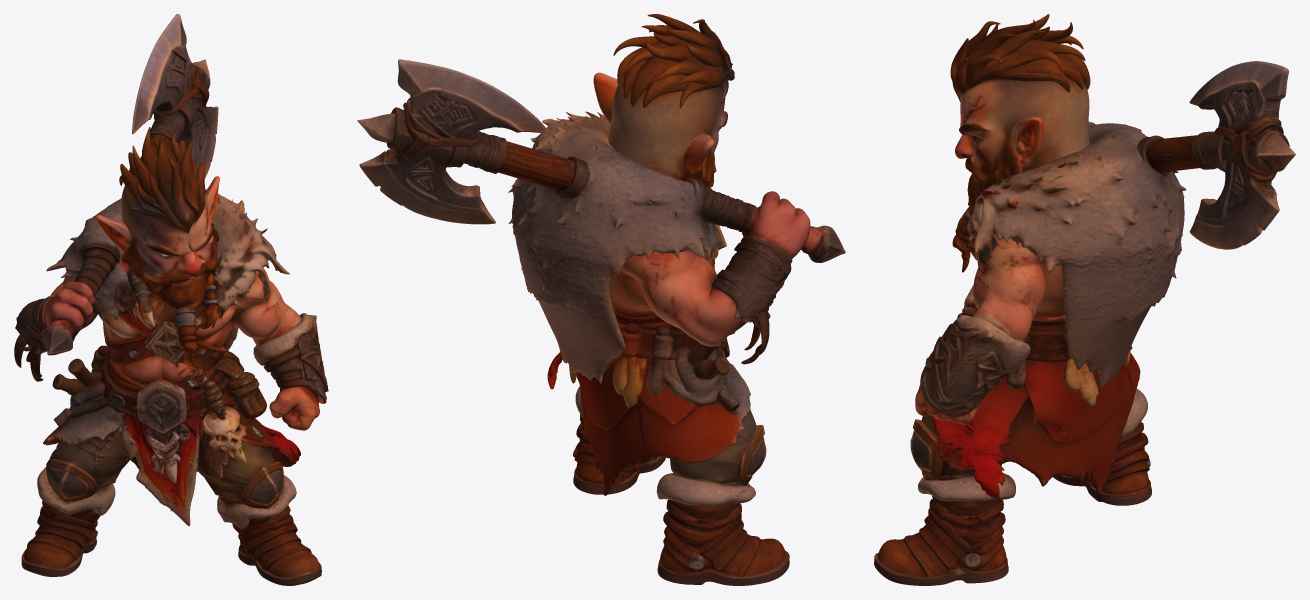
Rendered from gnome_barbarian_full_male_01.glb.
3 renders of one model, left to right at view 1: azimuth 30°, elevation 25°; view 2: azimuth 150°, elevation 25°; view 3: azimuth 270°, elevation 25°, orthographic. The views are drawn at different scales.
Visible parts, largest first — view 1: material; view 2: material; view 3: material.
Boxes of the visible parts, bbox=[...] form: material: bbox=[14, 14, 328, 585]; material: bbox=[357, 14, 845, 585]; material: bbox=[874, 14, 1295, 585].
Size of the model in its own units: 0.625 by 0.9093 by 0.6558.
Materials: 1 (1 with a texture image).
